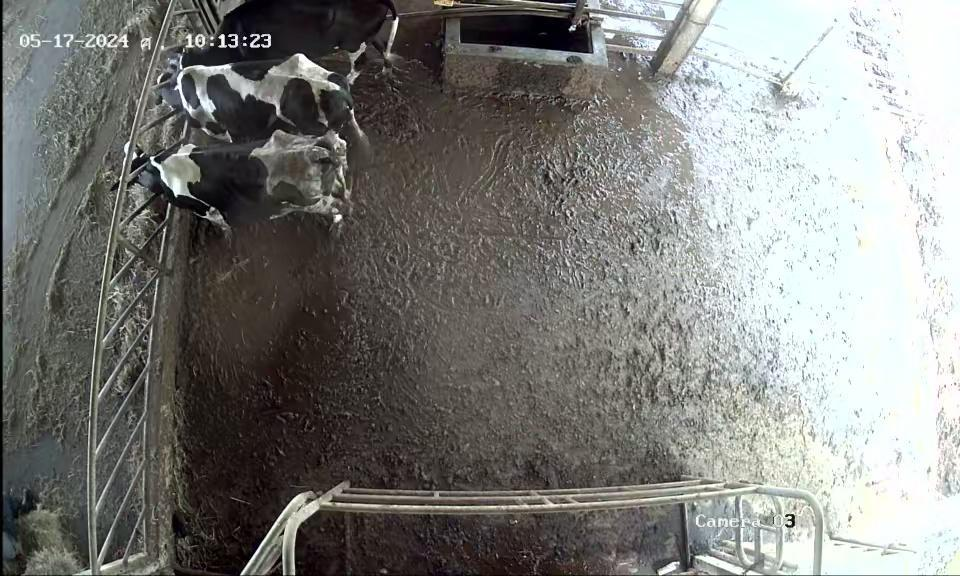eat: (98, 133, 223, 219), (122, 63, 220, 127), (141, 26, 235, 72)
